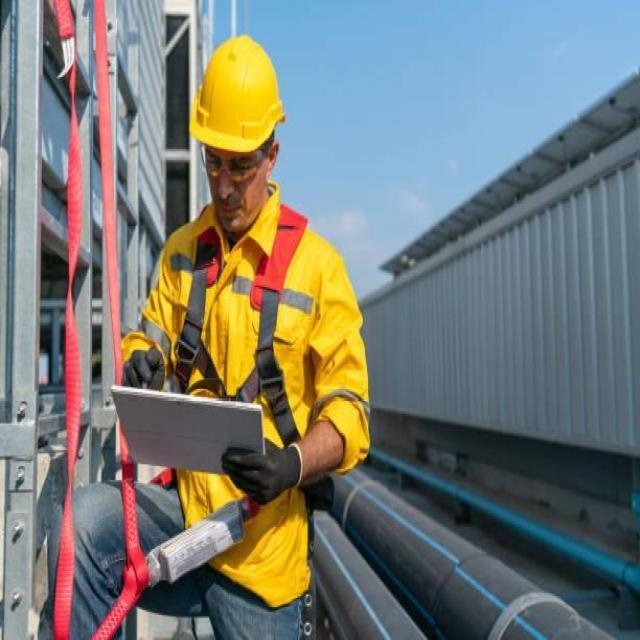Arnes_seguridad: (171, 204, 311, 585)
